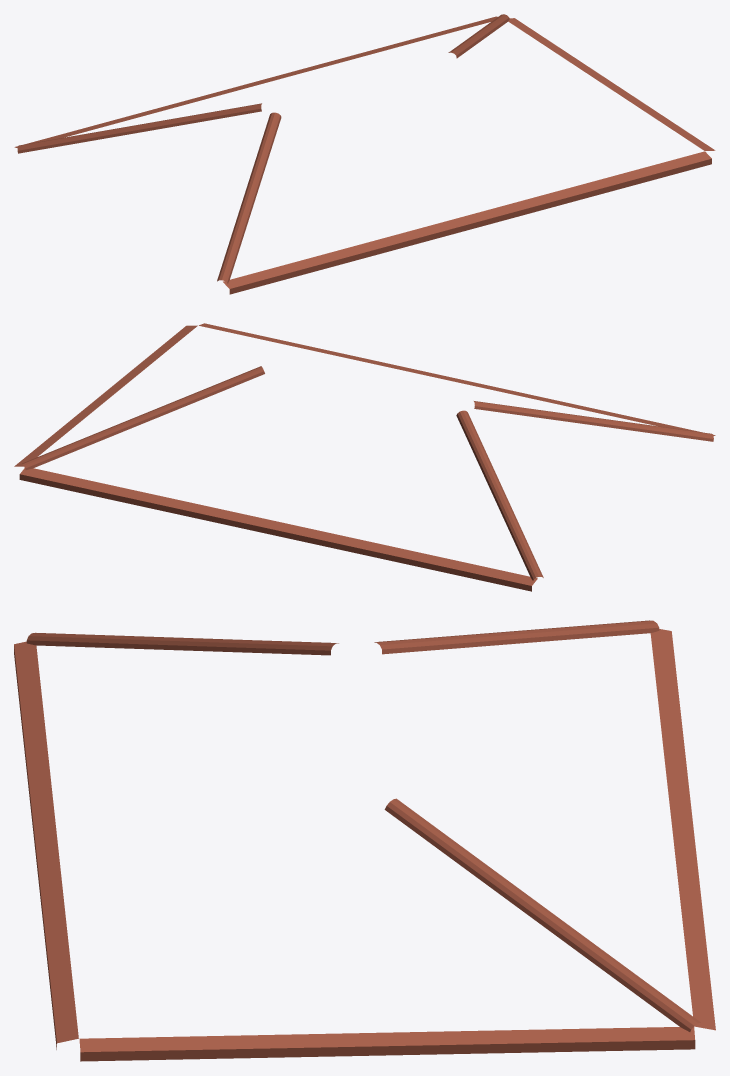
The picture shows the model from 3 angles, top to bottom: view 1: azimuth 30°, elevation 25°; view 2: azimuth 150°, elevation 25°; view 3: azimuth 270°, elevation 25°; orthographic projection. The views are drawn at different scales.
Parts seen in each view (by area): view 1: detail; view 2: detail; view 3: detail.
Boxes of the visible parts, x1,y1,x2,y2 form: detail: (14, 14, 715, 294); detail: (14, 323, 715, 591); detail: (14, 620, 715, 1061).
Bounding box in the file's own units: 14.72 × 2.15 × 10.29.
